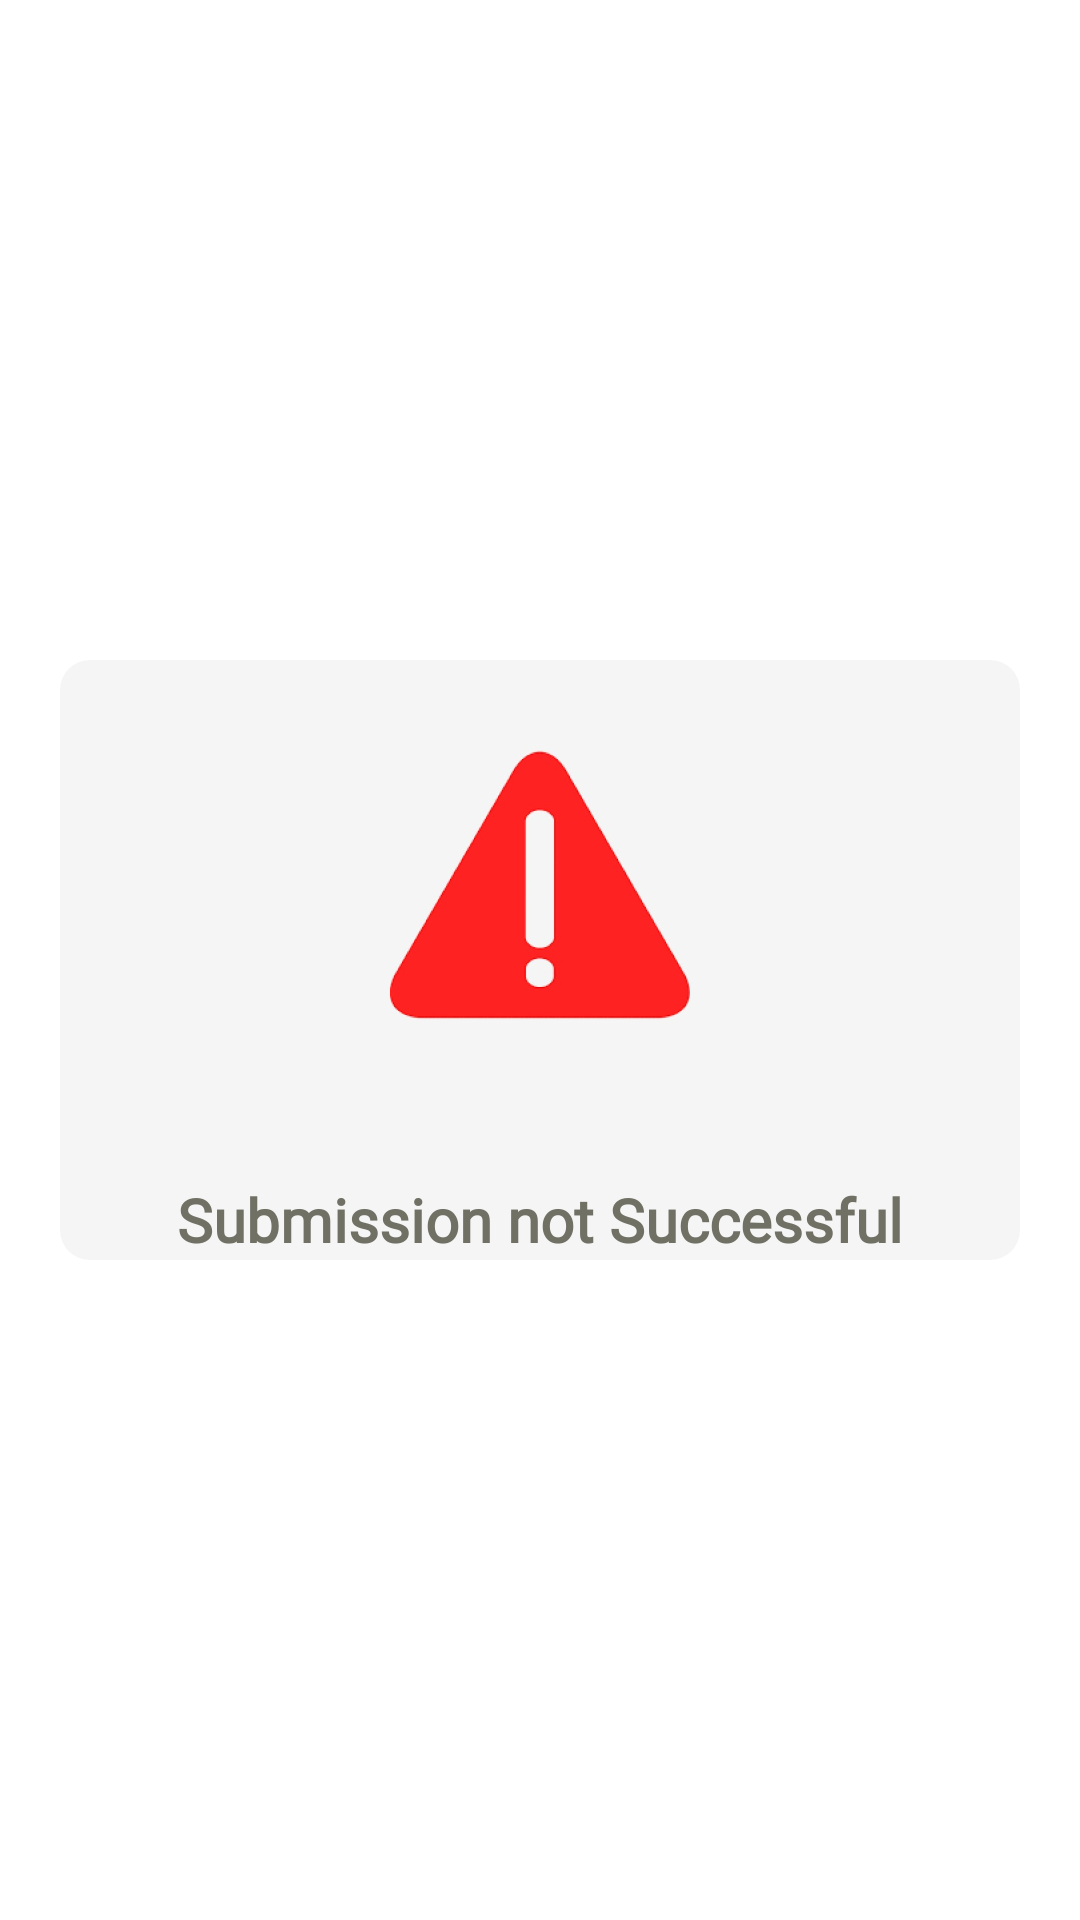

Icons on this 1080 x 1920 Android screen, each with the point to tap as point (x, y):
caution sign: point (540, 885)
